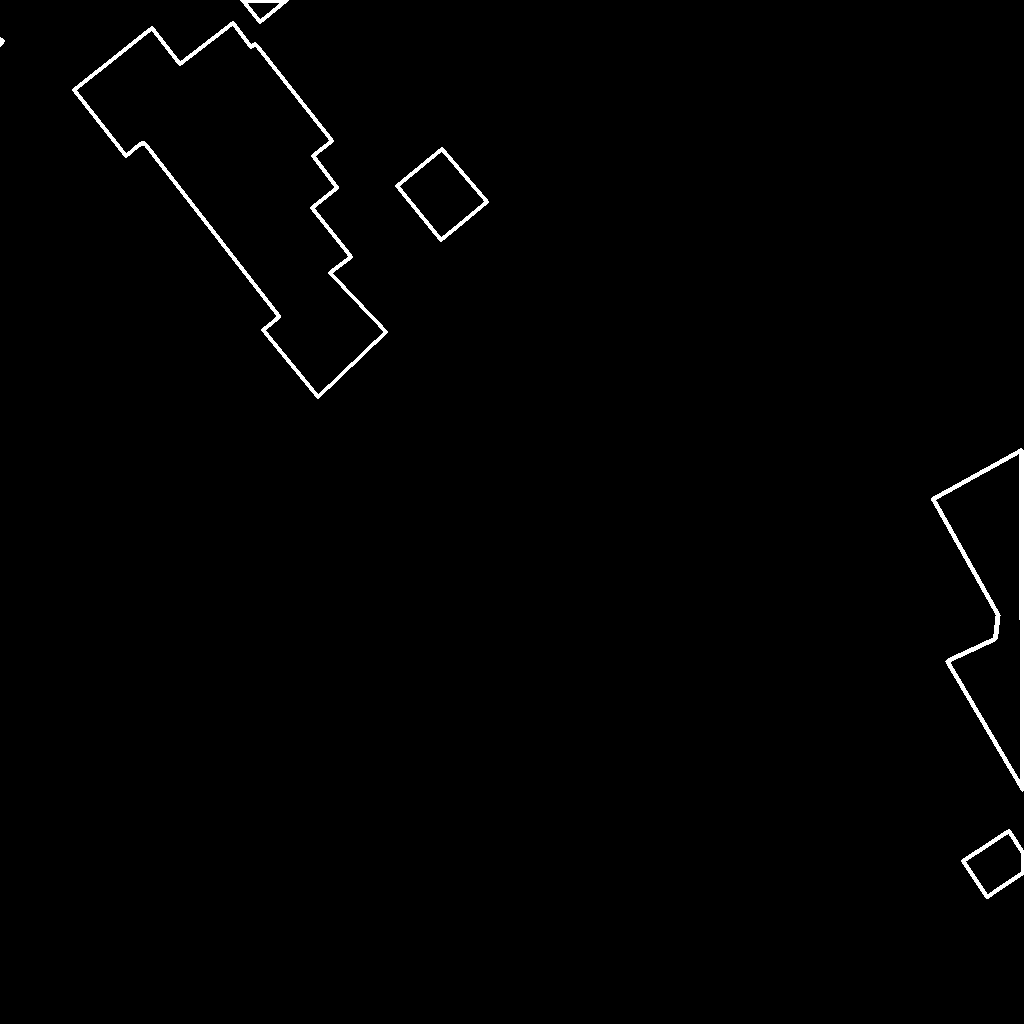building: (74, 23, 387, 398), (933, 450, 1024, 791), (397, 149, 488, 241), (963, 831, 1024, 898), (242, 0, 288, 23), (0, 39, 4, 46)
